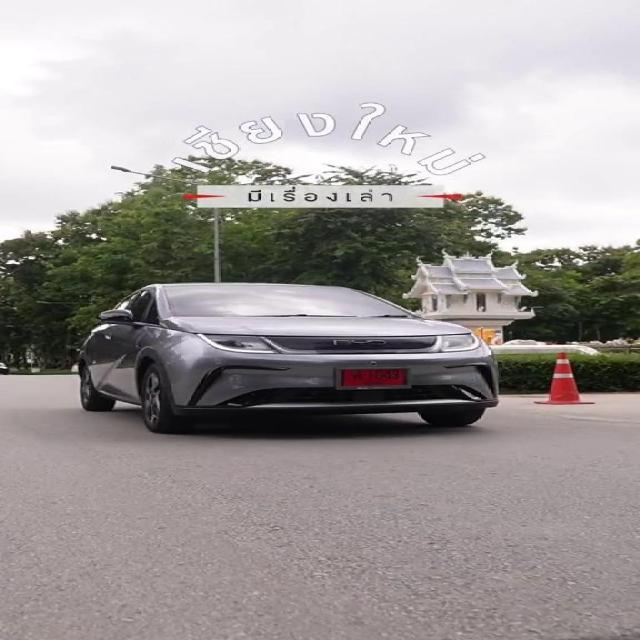Hatchback: (79, 282, 497, 433)
